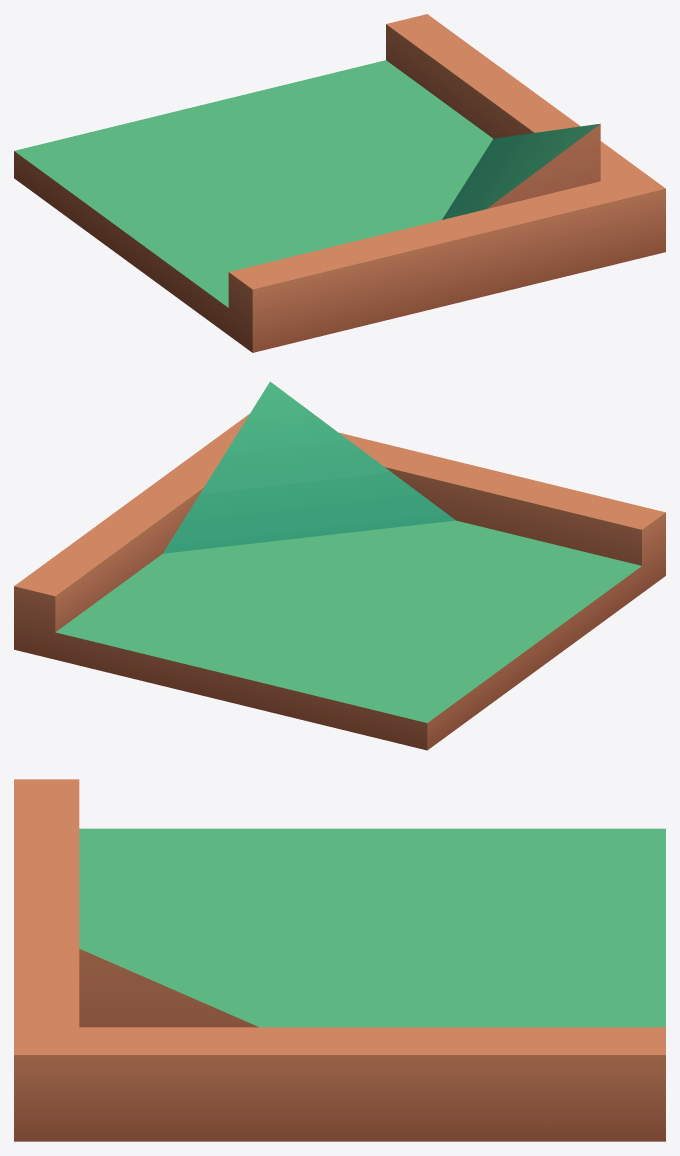
File: hill-corner.glb
The picture shows the model from 3 angles, top to bottom: view 1: azimuth 30°, elevation 25°; view 2: azimuth 150°, elevation 25°; view 3: azimuth 270°, elevation 25°; orthographic projection. The views are drawn at different scales.
Visible parts, largest first — view 1: hill-corner; view 2: hill-corner; view 3: hill-corner.
Boxes of the visible parts, <box> form: hill-corner: <box>14,14,665,352</box>; hill-corner: <box>14,381,665,750</box>; hill-corner: <box>14,779,665,1141</box>.
Size of the model in its own units: 0.9999 by 0.2799 by 0.9999.
Materials: 1 (1 with a texture image).
